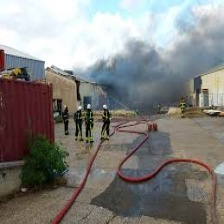smoke: (86, 7, 224, 107)
